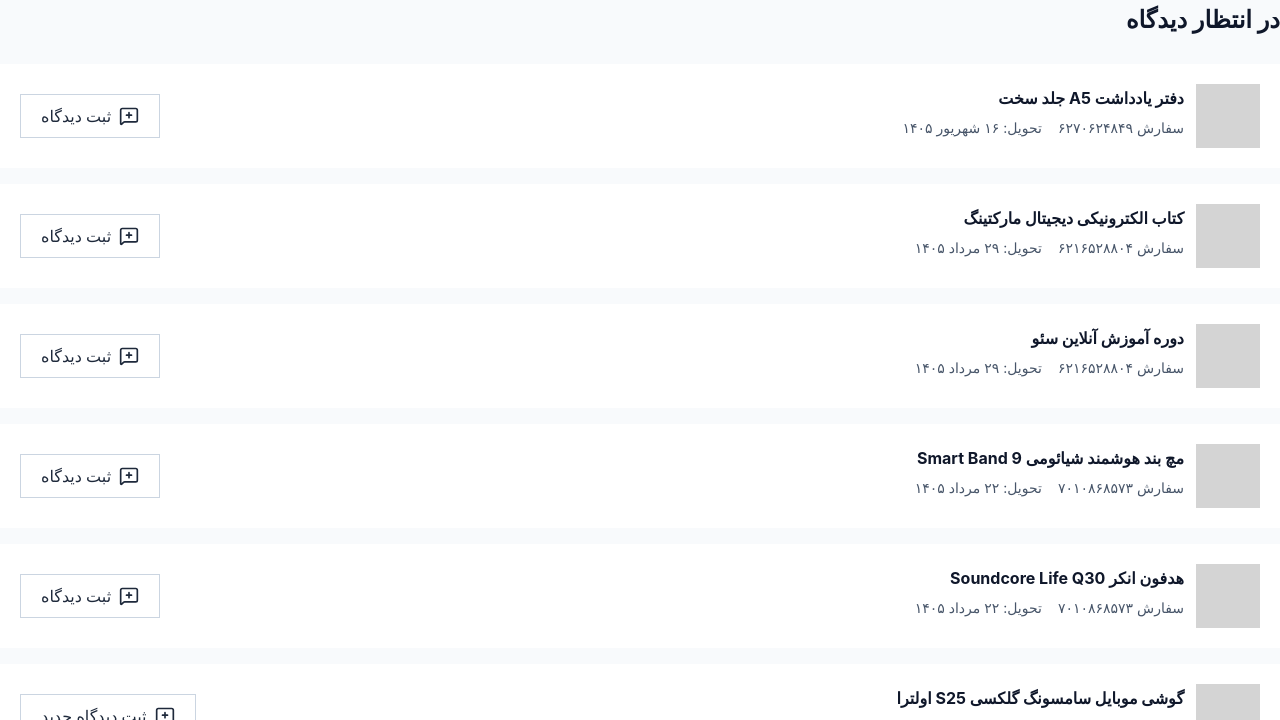
Test: a review sent after the list was read again › the focus goes to the next purchase (compared by order code, not by object)
This screenshot has width=1280, height=720.
Click the button "ثبت دیدگاه" in the row of "کتاب الکترونیکی دیجیتال مارکتینگ".
click(90, 236)  # box [20,214,160,258]
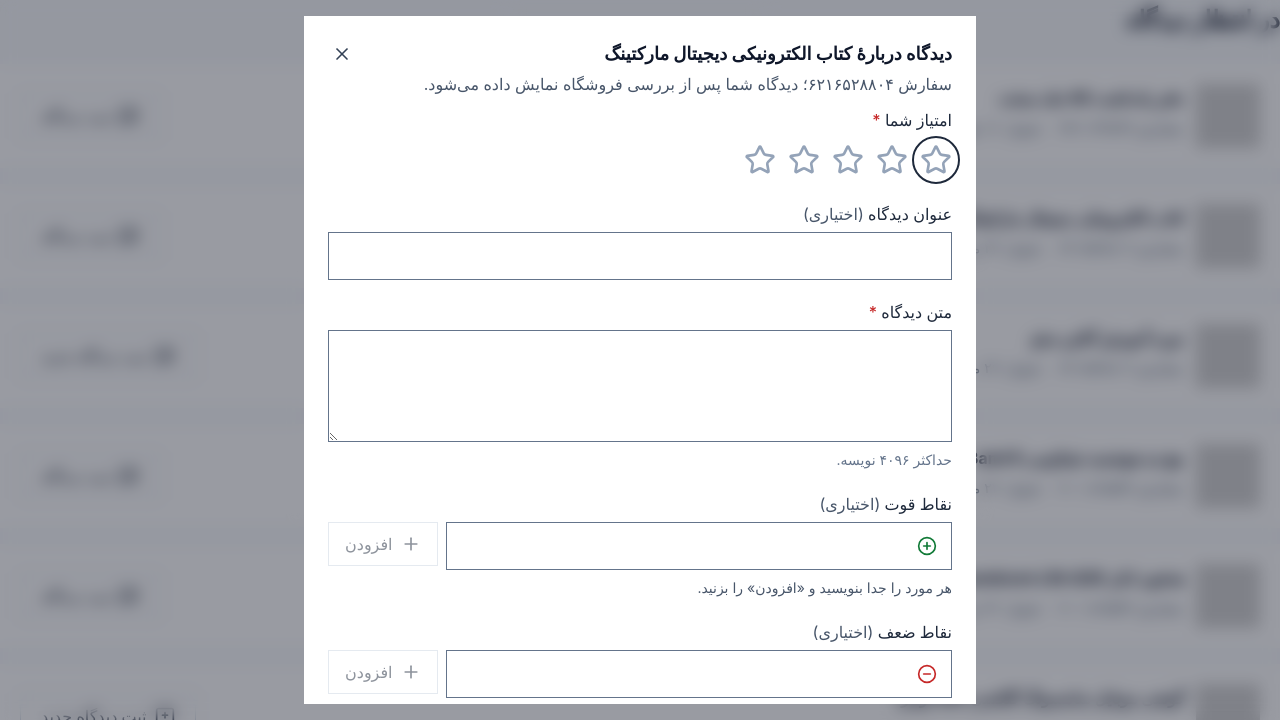
Click the radio button named "۴ ستاره".
click(804, 160)  # box [788,144,820,176]
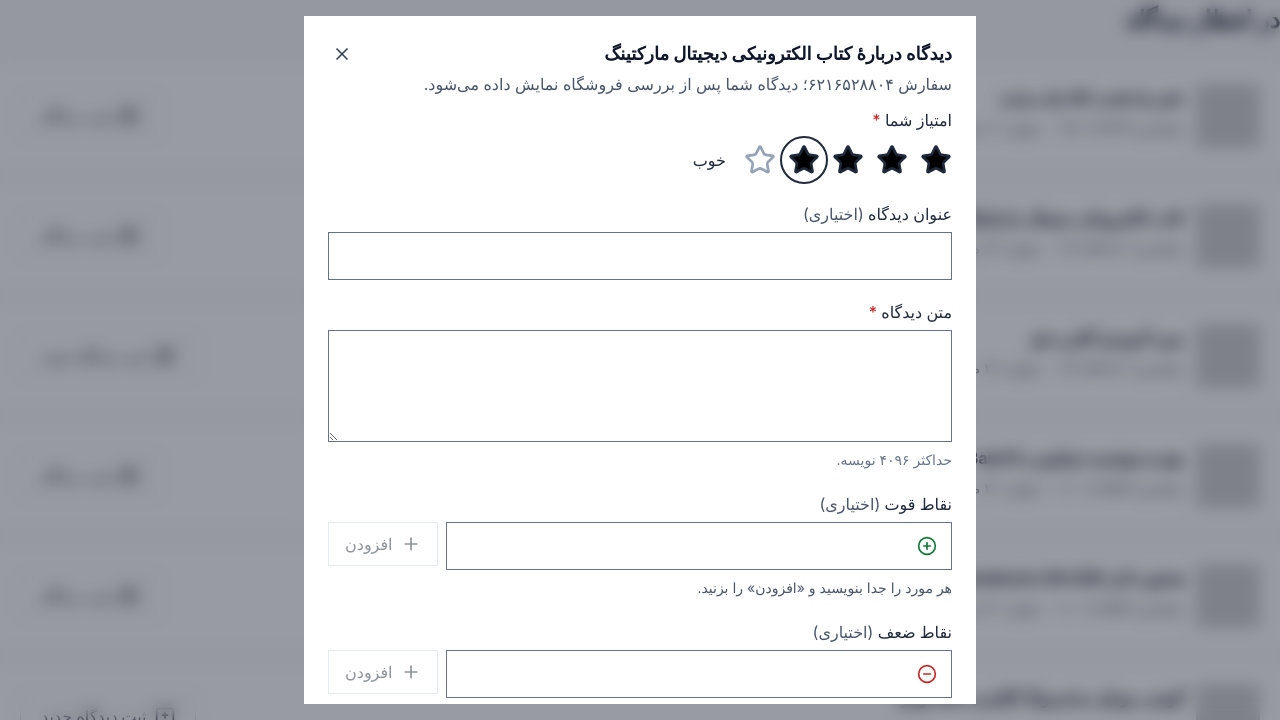
Type "مفید بود" into the text box labelled "متن دیدگاه *".
click(640, 386); type("مفید بود")  # box [328,330,952,442]
(page scrolled)
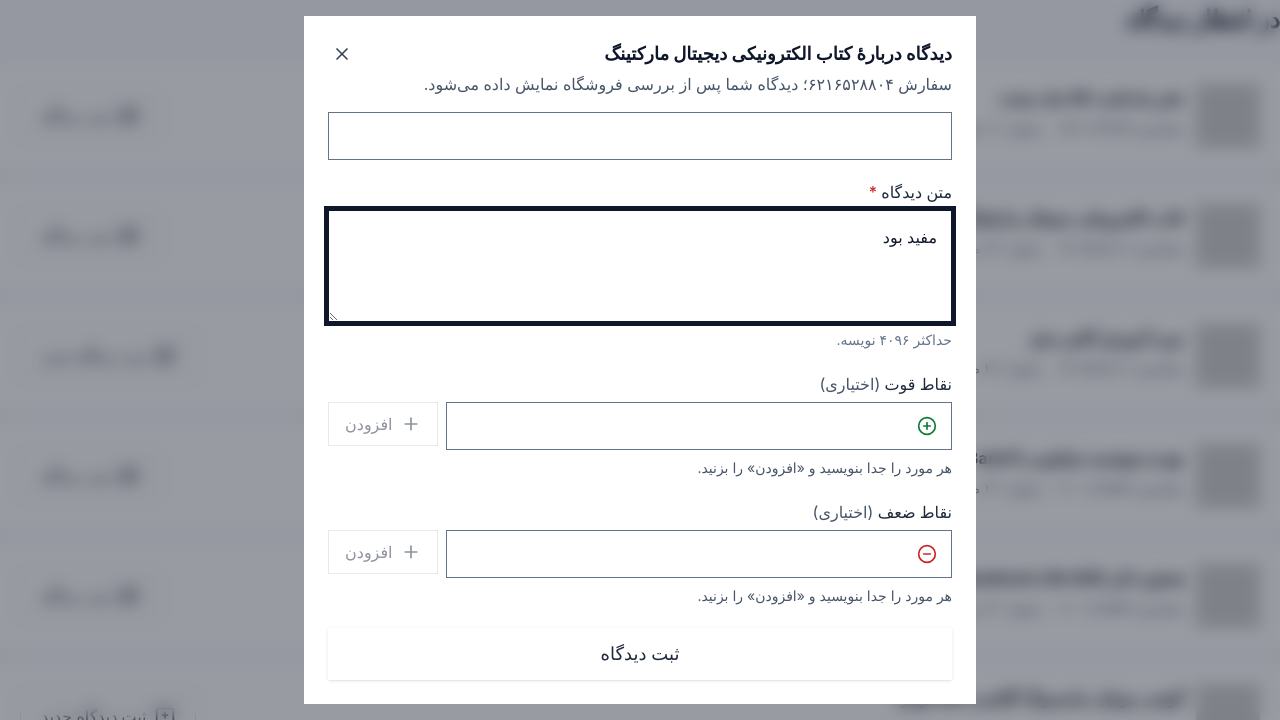
Click the button "ثبت دیدگاه".
click(640, 654)  # box [328,628,952,680]
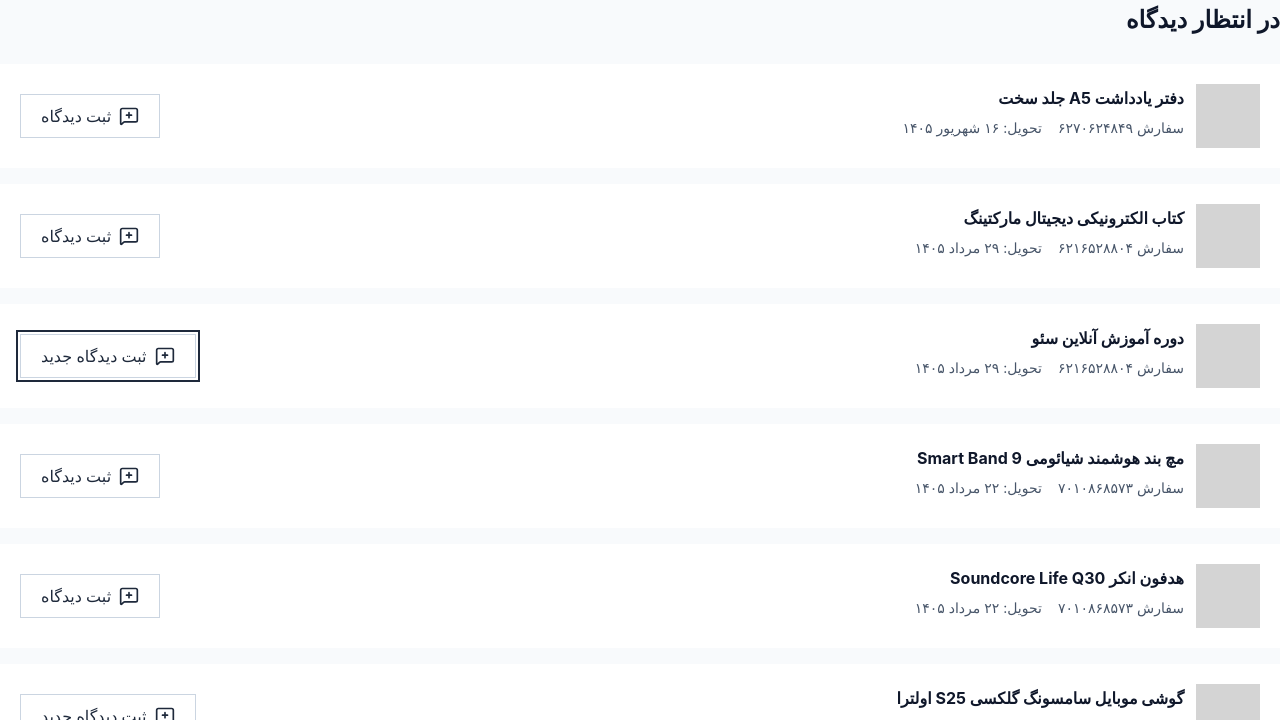
expect the dialog is gone: met
